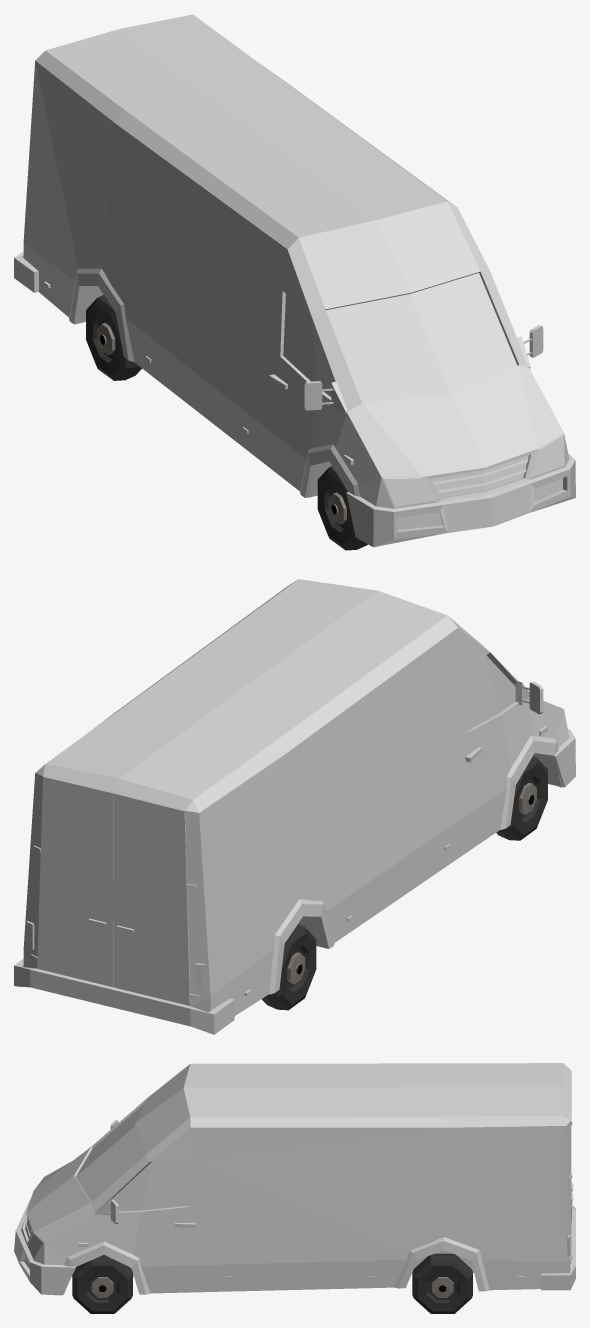
File: Van.fbx
3 renders of one model, top to bottom at view 1: azimuth 30°, elevation 25°; view 2: azimuth 150°, elevation 25°; view 3: azimuth 270°, elevation 25°, orthographic. The views are drawn at different scales.
Parts seen in each view (by area): view 1: Van, Wheels_BR, Wheels_FR; view 2: Van, doorR_Van, doorL_Van, Wheels_BR, Wheels_FR; view 3: Van, Wheels_BL, Wheels_FL.
Part boxes in pixels (x1=…): Van: x1=14, y1=14, x2=575, y2=547; Wheels_BR: x1=86, y1=295, x2=141, y2=380; Wheels_FR: x1=317, y1=466, x2=367, y2=550; Van: x1=14, y1=579, x2=575, y2=1034; doorR_Van: x1=113, y1=793, x2=190, y2=1005; doorL_Van: x1=37, y1=776, x2=113, y2=987; Wheels_BR: x1=262, y1=924, x2=316, y2=1010; Wheels_FR: x1=496, y1=756, x2=547, y2=840; Van: x1=14, y1=1063, x2=575, y2=1295; Wheels_BL: x1=412, y1=1253, x2=472, y2=1313; Wheels_FL: x1=72, y1=1255, x2=132, y2=1313.
Size of the model in its own units: 238 by 252 by 662.
